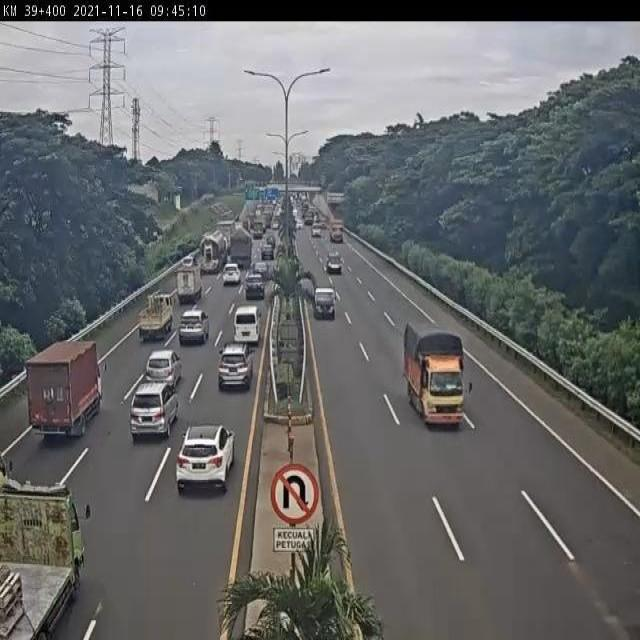Car: (175, 424, 235, 495), (130, 382, 179, 440), (218, 342, 254, 392), (143, 349, 183, 390), (179, 311, 210, 345), (313, 285, 336, 322), (243, 271, 267, 302), (220, 263, 243, 286), (324, 251, 343, 274), (252, 260, 270, 275), (260, 243, 274, 261), (311, 224, 322, 238)
Truck: (0, 476, 92, 640), (22, 339, 109, 442), (402, 322, 475, 429), (138, 290, 172, 343), (198, 229, 227, 276), (174, 264, 203, 302), (228, 225, 252, 270), (328, 220, 344, 244)
Van: (234, 306, 262, 346)
